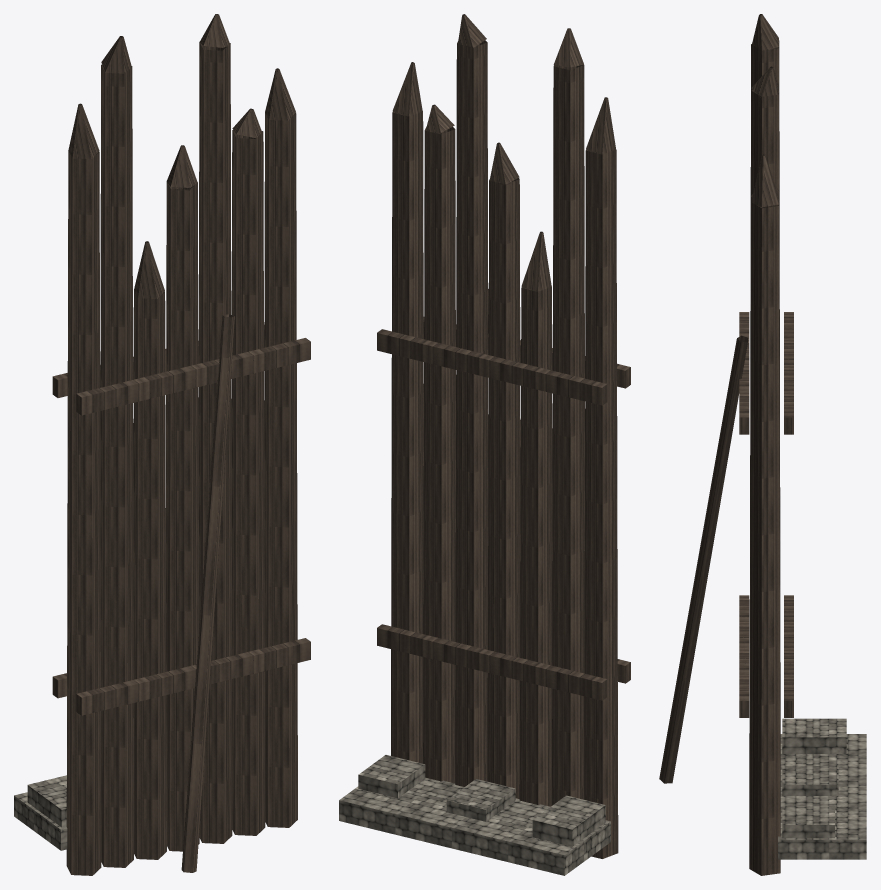
The model's file is Rampart_Wood_Burnt_1_LOD1.gltf.
3 renders of one model, left to right at view 1: azimuth 30°, elevation 25°; view 2: azimuth 150°, elevation 25°; view 3: azimuth 270°, elevation 25°, orthographic. The views are drawn at different scales.
Parts seen in each view (by area): view 1: Rampart_Wood_Burnt_1_LOD1; view 2: Rampart_Wood_Burnt_1_LOD1; view 3: Rampart_Wood_Burnt_1_LOD1.
Part boxes in pixels (<box>): Rampart_Wood_Burnt_1_LOD1: <box>14,14,310,875</box>; Rampart_Wood_Burnt_1_LOD1: <box>339,14,630,875</box>; Rampart_Wood_Burnt_1_LOD1: <box>659,14,866,875</box>.
Size of the model in its own units: 4 by 13.77 by 3.32.
Materials: 2 (2 with a texture image).
